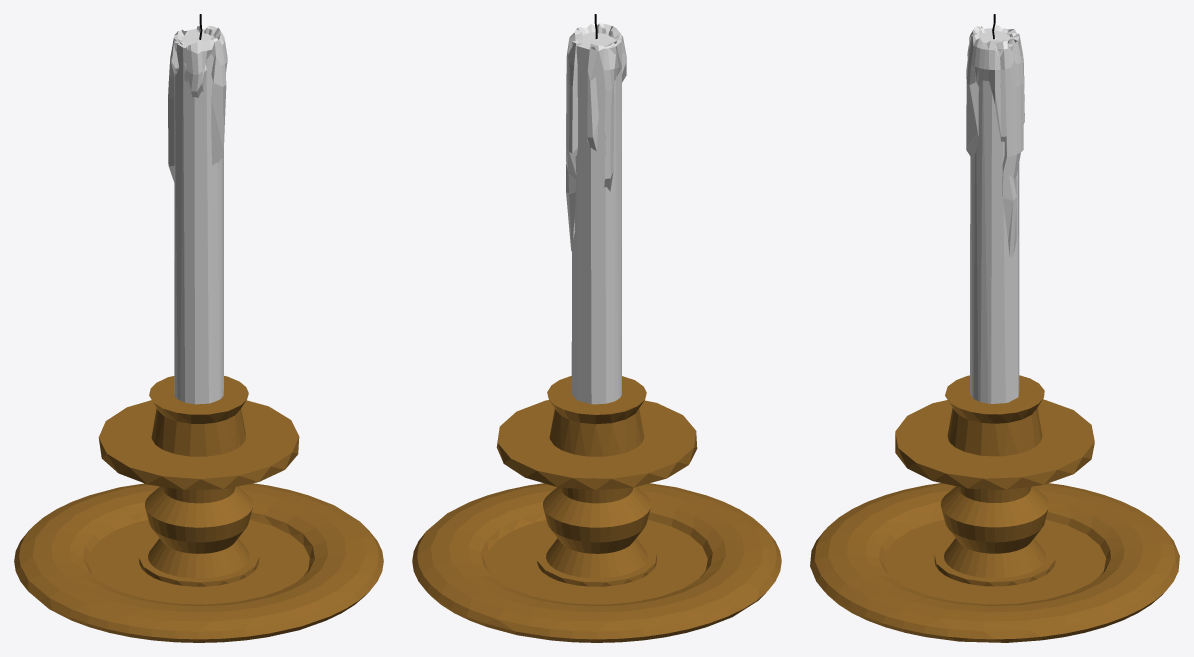
The model's file is Kitchen_SmallProps_CandleSmall.fbx.
3 views of the same model, side by side, from view 1: azimuth 30°, elevation 25°; view 2: azimuth 150°, elevation 25°; view 3: azimuth 270°, elevation 25° (orthographic).
Parts seen in each view (by area): view 1: Ljushållare, Ljus, Melted_part; view 2: Ljushållare, Ljus, Melted_part; view 3: Ljushållare, Ljus, Melted_part.
Boxes of the visible parts, bbox=[...] form: Ljushållare: bbox=[14, 376, 383, 642]; Ljus: bbox=[174, 29, 223, 404]; Melted_part: bbox=[168, 25, 227, 182]; Ljushållare: bbox=[412, 376, 781, 642]; Ljus: bbox=[571, 32, 621, 404]; Melted_part: bbox=[566, 23, 626, 251]; Ljushållare: bbox=[810, 375, 1179, 642]; Ljus: bbox=[970, 28, 1019, 403]; Melted_part: bbox=[966, 25, 1024, 257].
Size of the model in its own units: 14.81 by 24.66 by 14.79.
